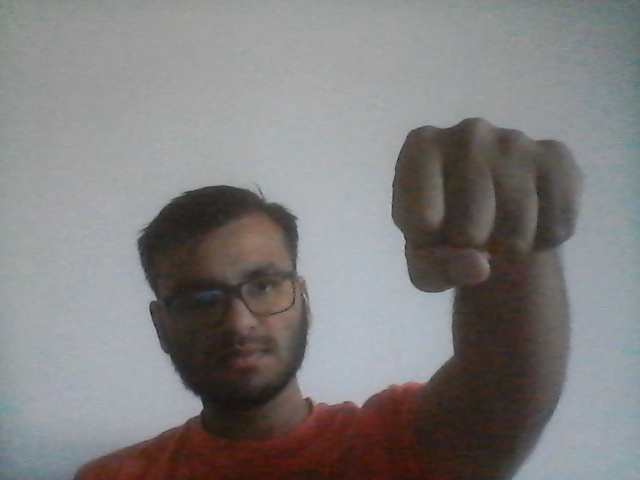Thanks: (391, 121, 588, 292)
